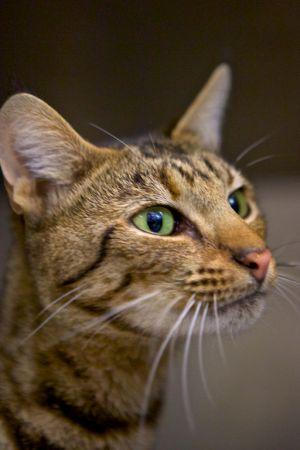bengal: (1, 44, 292, 351)
